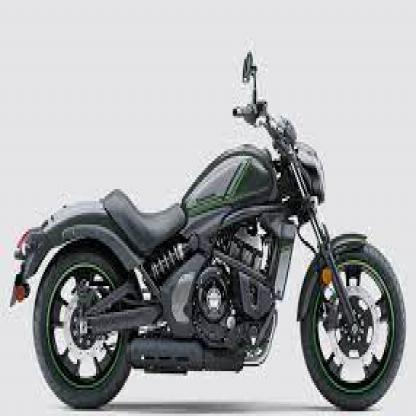Motorcycle: (7, 46, 410, 415)
